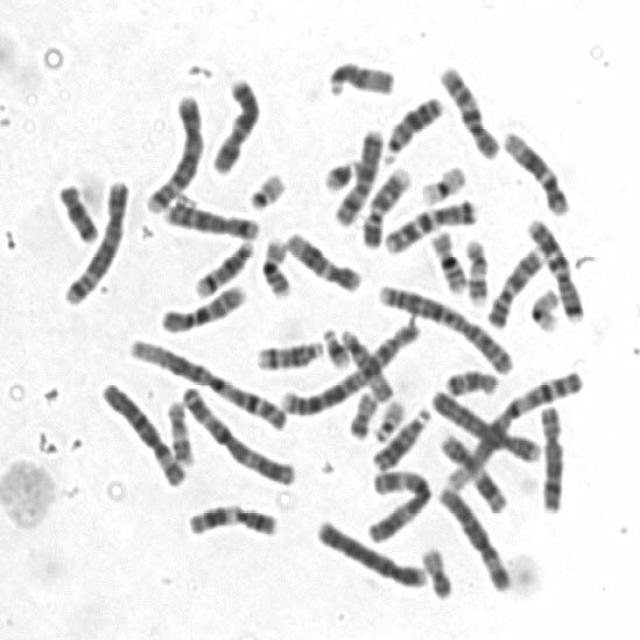A1: (437, 361, 589, 494), (121, 327, 292, 432)
A2: (275, 312, 422, 418), (369, 275, 516, 375)
A3: (174, 378, 297, 488), (359, 460, 435, 544)
B4: (424, 380, 544, 464), (309, 510, 428, 590)
B5: (56, 170, 132, 308), (138, 85, 206, 216)
C10: (432, 57, 502, 160), (152, 275, 250, 335)
C11: (432, 426, 510, 514), (179, 497, 281, 539)
C12: (496, 122, 572, 217), (277, 224, 364, 294)
C6: (93, 374, 189, 488), (433, 478, 514, 595)
C7: (520, 210, 586, 324), (376, 190, 481, 255)
C8: (156, 190, 261, 241), (532, 396, 566, 514)
C9: (480, 239, 547, 330), (355, 158, 414, 250)
D13: (376, 86, 446, 166), (365, 399, 432, 472)
D14: (186, 232, 256, 298), (250, 331, 326, 372)
D15: (334, 321, 396, 403), (320, 52, 398, 98)
E16: (423, 221, 470, 295), (254, 229, 294, 299)
E17: (160, 392, 196, 468), (458, 230, 492, 307)
E18: (49, 174, 100, 244), (438, 361, 500, 397)
F19: (412, 157, 468, 206), (522, 280, 562, 334)
F20: (415, 538, 455, 601), (342, 383, 380, 441)
G21: (315, 150, 359, 194), (316, 319, 352, 370)
G22: (241, 163, 288, 211), (367, 392, 407, 443)
X: (326, 120, 386, 228), (203, 68, 262, 176)
